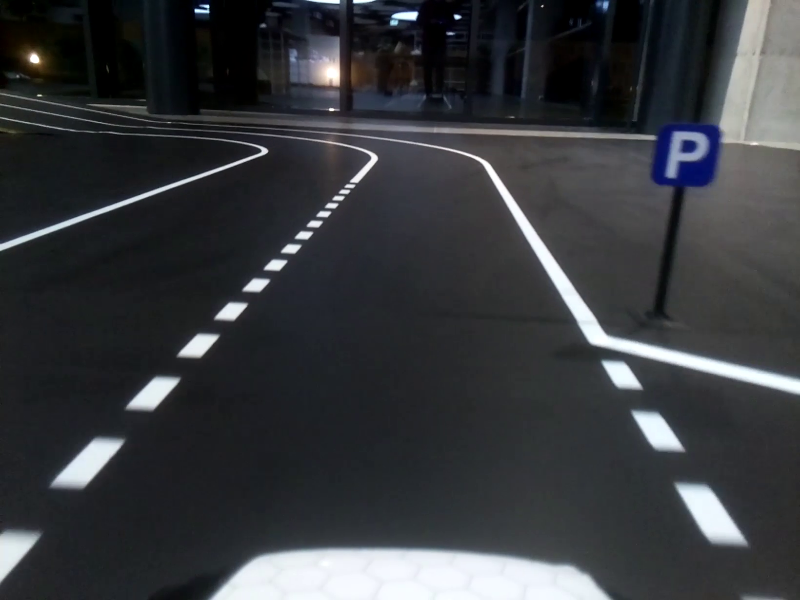park: (655, 124, 717, 186)
